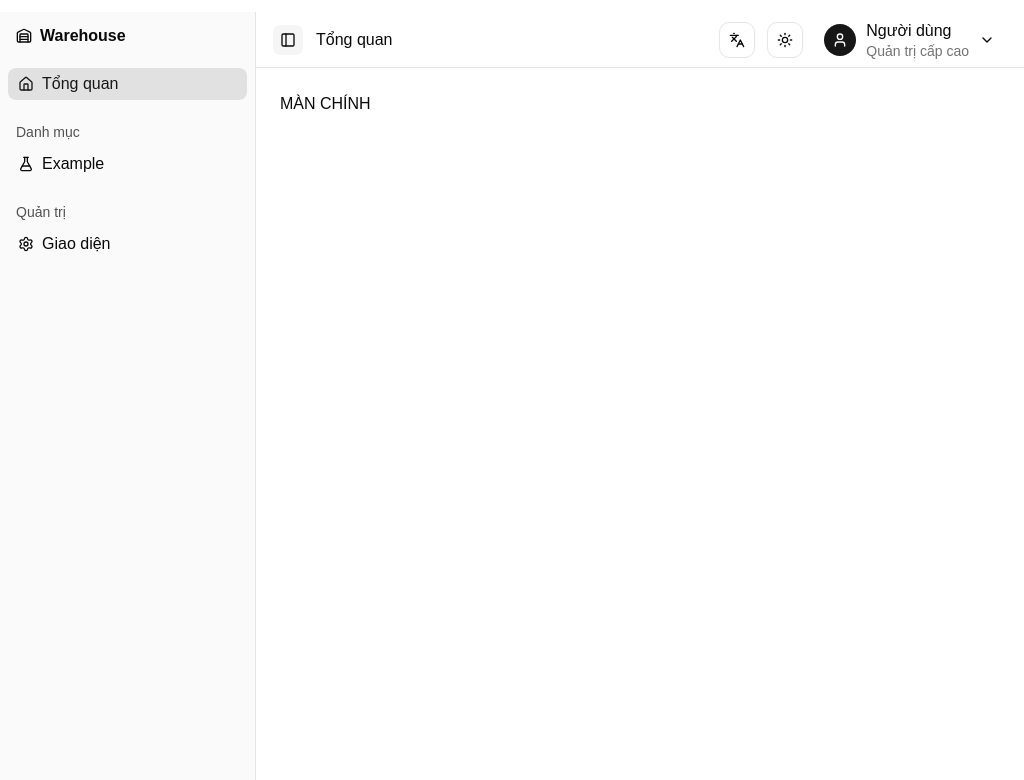
Test case: AppShell — sidebar › nút thu gọn báo aria-expanded theo trạng thái và aria-controls trỏ vào sidebar
Click the button named "Thu gọn / mở rộng menu": x=288, y=40 [272,24,304,56]
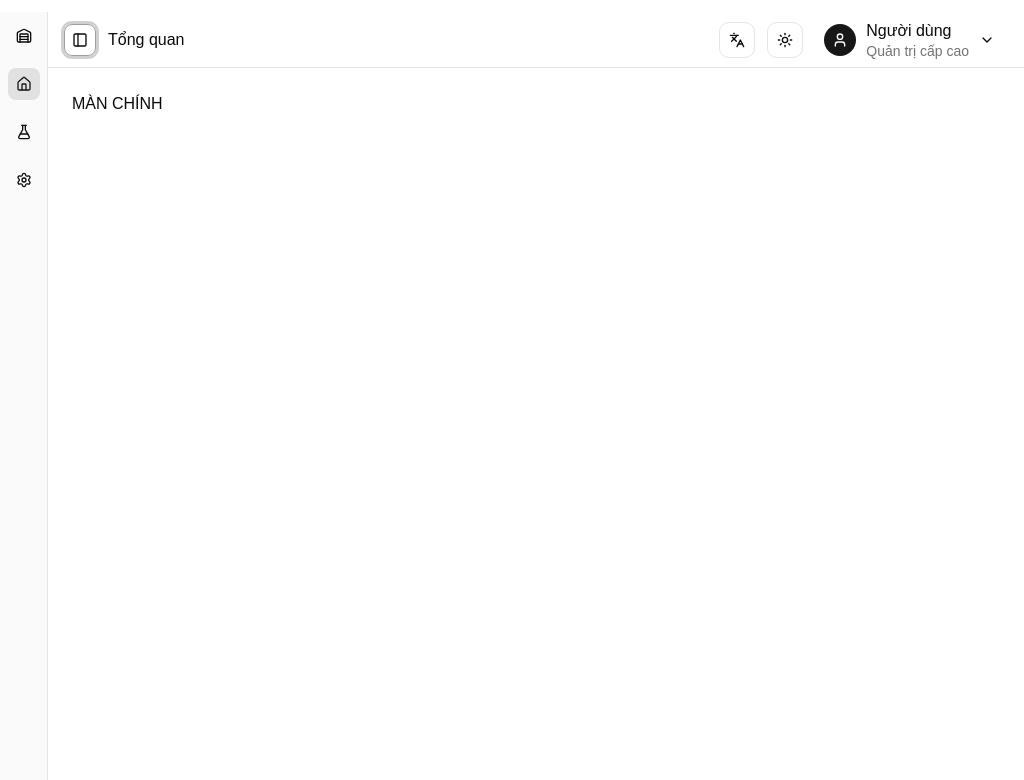
Expected: the button named "Thu gọn / mở rộng menu" is collapsed, [64,24,96,56]
